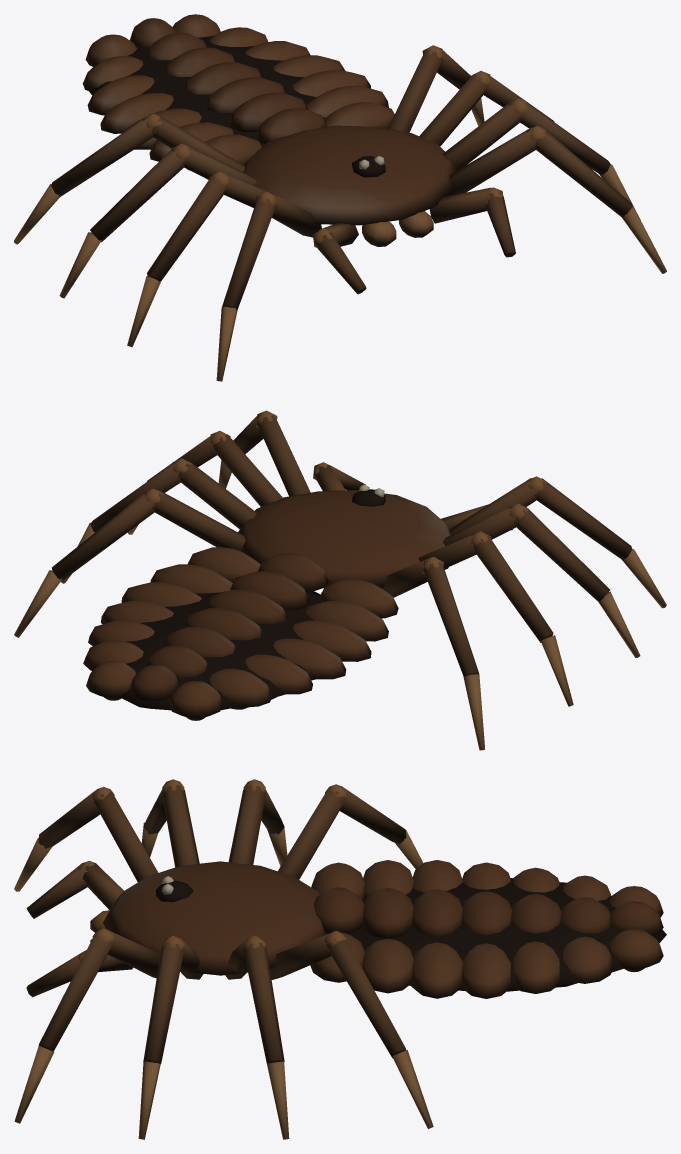
The model's file is Palaeocharinus.fbx.
The picture shows the model from 3 angles, top to bottom: view 1: azimuth 30°, elevation 25°; view 2: azimuth 150°, elevation 25°; view 3: azimuth 270°, elevation 25°; orthographic projection. The views are drawn at different scales.
Parts seen in each view (by area): view 1: Palaeocharinus; view 2: Palaeocharinus; view 3: Palaeocharinus.
Boxes of the visible parts, box(x1,y1,x2,y2) form: Palaeocharinus: box(14, 14, 666, 381); Palaeocharinus: box(14, 410, 666, 750); Palaeocharinus: box(14, 779, 666, 1139).
Bounding box in the file's own units: 0.9689 × 0.2524 × 0.9946.
